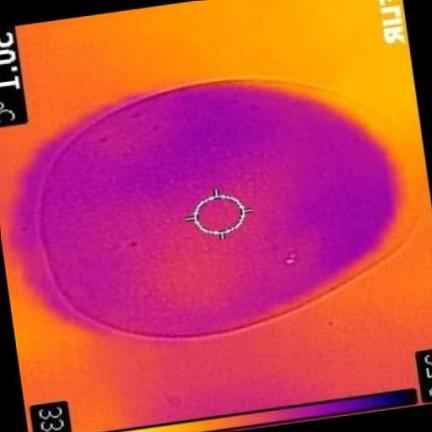mango: (40, 79, 423, 336)
